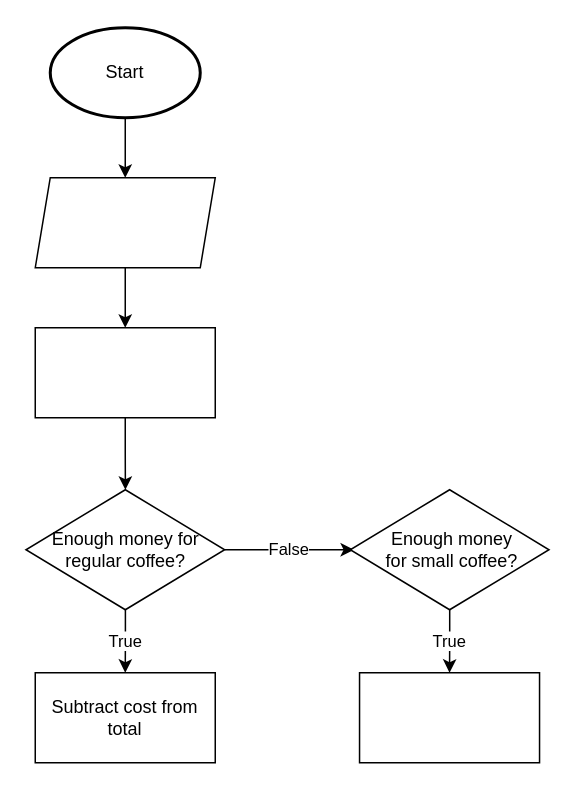
Some shapes in this 576 by 789 pixel diagram are drawn without their labels. Each missing label, with the box of its shape:
Convert all input to cents: (34, 326, 215, 418)
Prompt for dollars and cents: (34, 176, 215, 268)
